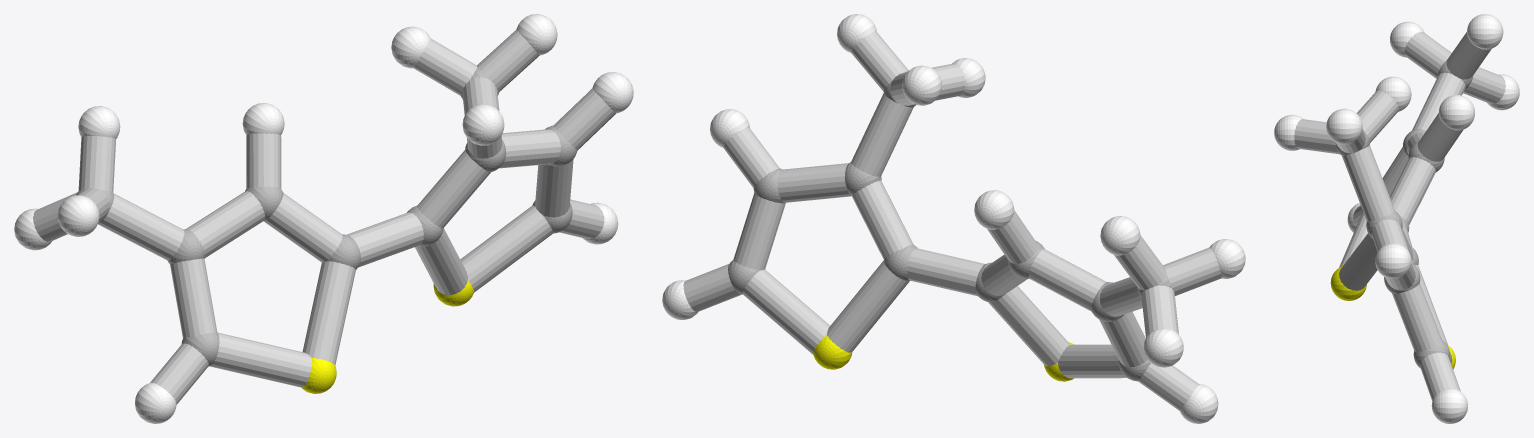
The model's file is Methylthiophene_Phi_10_Theta_230_Methylthiophene.glb.
3 renders of one model, left to right at view 1: azimuth 30°, elevation 25°; view 2: azimuth 150°, elevation 25°; view 3: azimuth 270°, elevation 25°, orthographic. The views are drawn at different scales.
Visible parts, largest first — view 1: grp7965, grp3621, grp1, grp7241; view 2: grp7965, grp3621, grp1, grp7241; view 3: grp7965, grp3621, grp1, grp7241.
Boxes of the visible parts, left/top/right/bottom form: grp7965: left=33, top=30, right=615, bottom=404; grp3621: left=14, top=14, right=633, bottom=423; grp1: left=76, top=67, right=577, bottom=366; grp7241: left=301, top=280, right=473, bottom=393; grp7965: left=683, top=31, right=1221, bottom=410; grp3621: left=662, top=14, right=1245, bottom=423; grp1: left=728, top=70, right=1171, bottom=381; grp7241: left=813, top=335, right=1073, bottom=381; grp7965: left=1294, top=32, right=1505, bottom=400; grp3621: left=1274, top=14, right=1519, bottom=423; grp1: left=1336, top=60, right=1473, bottom=368; grp7241: left=1330, top=266, right=1455, bottom=369.
Bounding box in the file's own units: 9.56 × 5.13 × 4.05.
